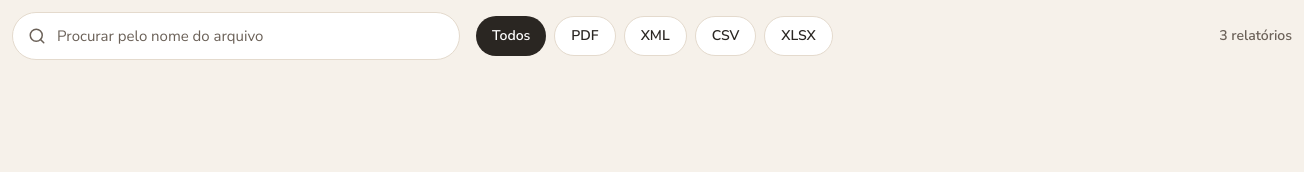
it: SearchFilterBar › clears the search immediately from the clear button
Type "nfe" into the search field named "Buscar relatórios".
click(236, 36); type("nfe")  # box [12, 12, 460, 60]
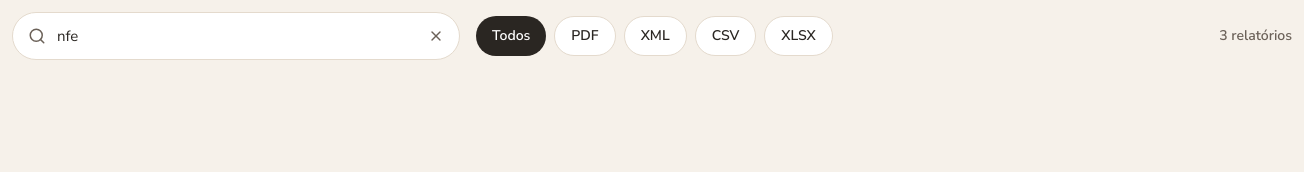
Click the button named "Limpar busca".
click(436, 36)  # box [420, 20, 452, 52]
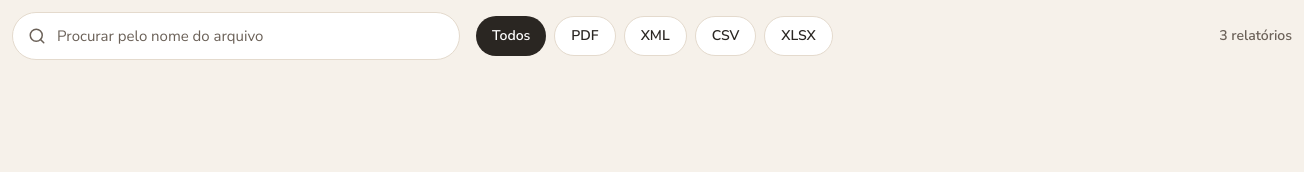
Now the search field named "Buscar relatórios" is empty, box [12, 12, 460, 60]
